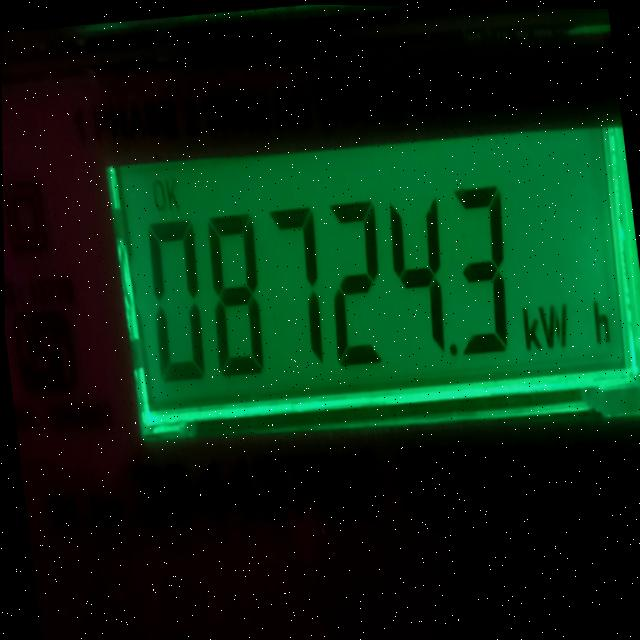.: (449, 340, 459, 358)
0: (141, 212, 209, 385)
2: (320, 196, 390, 365)
3: (445, 181, 516, 358)
4: (386, 194, 451, 352)
7: (266, 202, 326, 363)
8: (203, 212, 267, 377)
